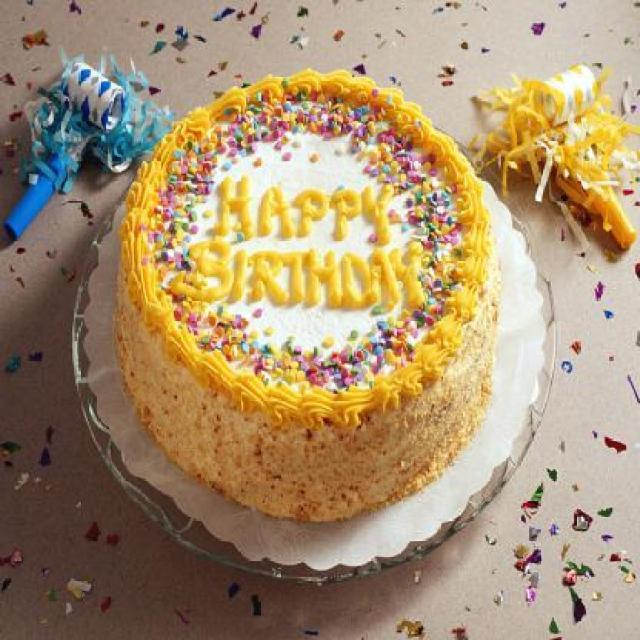Cake: (113, 68, 496, 522)
